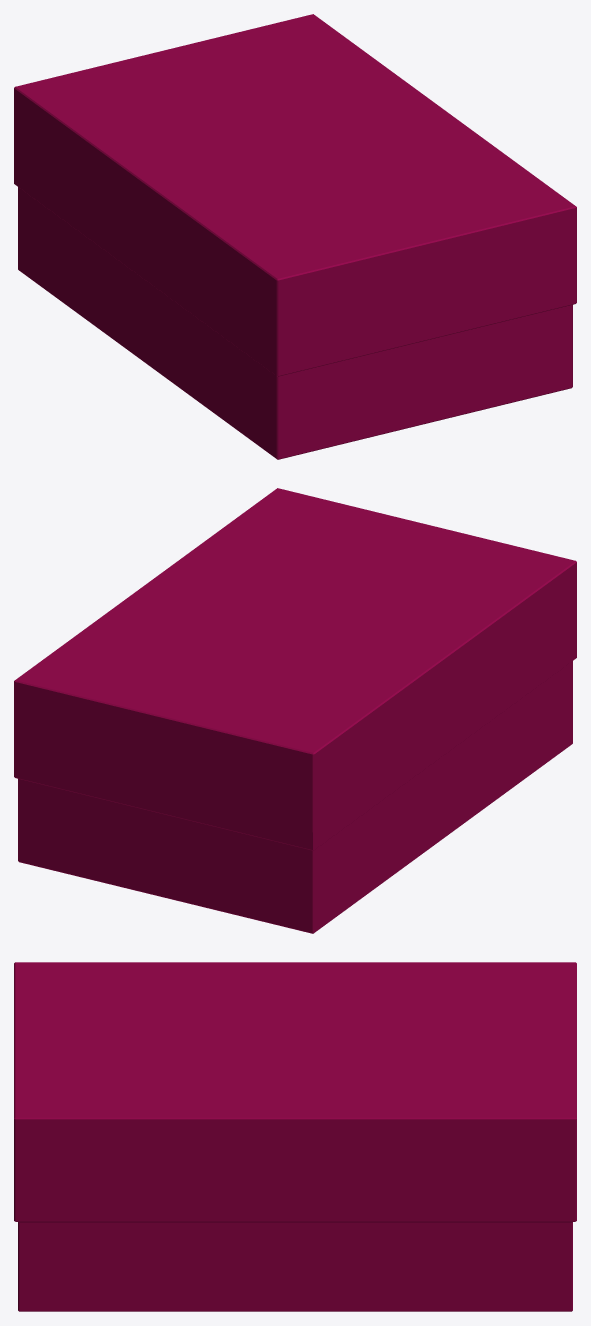
File: Game_Box_01.fbx
The picture shows the model from 3 angles, top to bottom: view 1: azimuth 30°, elevation 25°; view 2: azimuth 150°, elevation 25°; view 3: azimuth 270°, elevation 25°; orthographic projection. The views are drawn at different scales.
Parts seen in each view (by area): view 1: Game_Box_01; view 2: Game_Box_01; view 3: Game_Box_01.
Part boxes in pixels (x1,y1,x2,y2): Game_Box_01: [14, 14, 576, 459]; Game_Box_01: [14, 488, 576, 933]; Game_Box_01: [14, 962, 576, 1311].
Size of the model in its own units: 108 by 62.82 by 164.
